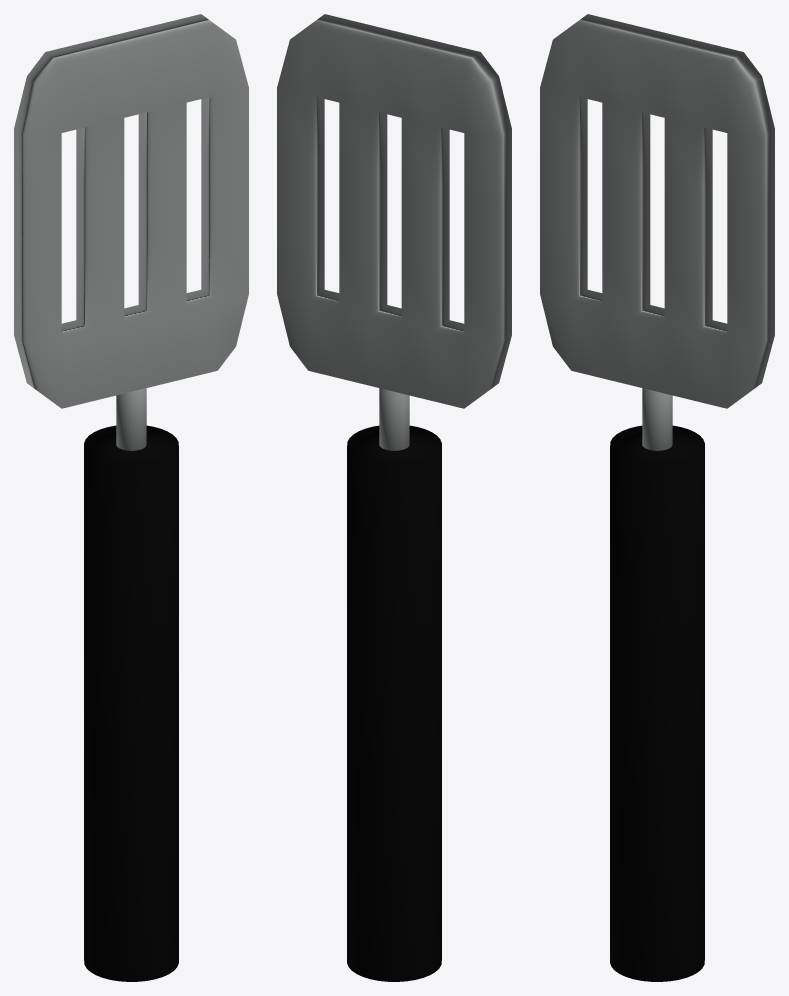
File: spatel.fbx
The picture shows the model from 3 angles, left to right: view 1: azimuth 30°, elevation 25°; view 2: azimuth 150°, elevation 25°; view 3: azimuth 330°, elevation 25°; orthographic projection.
Parts seen in each view (by area): view 1: Cube, Cylinder, Cylinder.001; view 2: Cube, Cylinder, Cylinder.001; view 3: Cube, Cylinder, Cylinder.001.
Boxes of the visible parts, left/top/right/bottom form: Cube: left=14, top=14, right=248, bottom=408; Cylinder: left=84, top=425, right=178, bottom=981; Cylinder.001: left=116, top=388, right=146, bottom=450; Cube: left=277, top=14, right=511, bottom=408; Cylinder: left=347, top=425, right=441, bottom=981; Cylinder.001: left=379, top=388, right=409, bottom=450; Cube: left=540, top=14, right=774, bottom=408; Cylinder: left=610, top=425, right=704, bottom=981; Cylinder.001: left=642, top=388, right=672, bottom=450.
Bounding box in the file's own units: 91.69 × 370 × 34.51.
